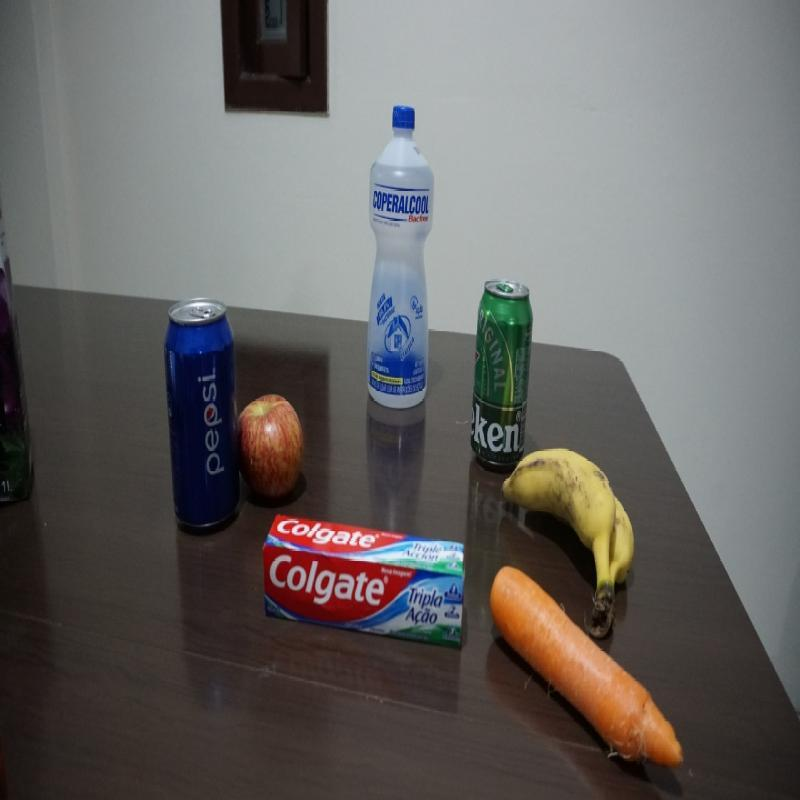Alcohol Bottle: (360, 104, 434, 415)
Apple: (238, 394, 305, 505)
Banana: (500, 448, 636, 640)
Beer can: (469, 278, 534, 472)
Carrot: (489, 566, 687, 778)
Soda can: (165, 297, 241, 532)
Toothpaste: (261, 514, 469, 653)
